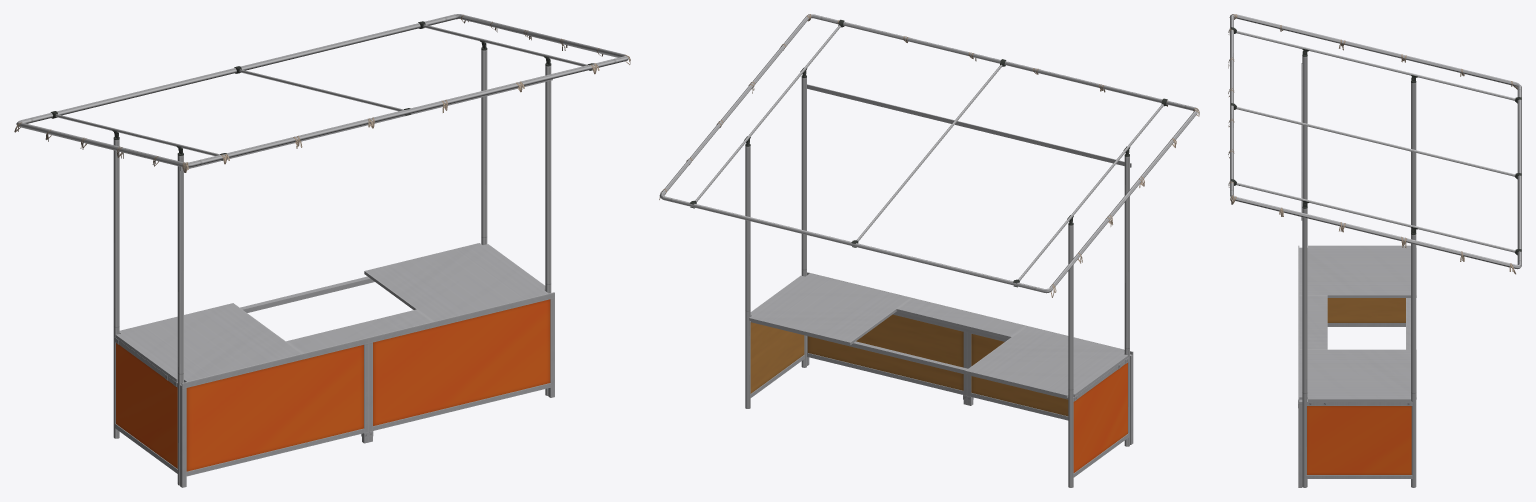
File: jsf_4P_s03_c01_t02.fbx
The picture shows the model from 3 angles, left to right: view 1: azimuth 30°, elevation 25°; view 2: azimuth 150°, elevation 25°; view 3: azimuth 270°, elevation 25°; orthographic projection. The views are drawn at different scales.
Parts seen in each view (by area): view 1: Base_s03_c01, Table_4P_s03_t02, Pillar4_s03, Rope_4P_s03; view 2: Base_s03_c01, Table_4P_s03_t02, Pillar4_s03; view 3: Table_4P_s03_t02, Pillar4_s03, Base_s03_c01, Rope_4P_s03.
Boxes of the visible parts, left/top/right/bottom form: Base_s03_c01: left=114, top=292, right=554, bottom=487; Table_4P_s03_t02: left=115, top=243, right=548, bottom=386; Pillar4_s03: left=16, top=14, right=628, bottom=485; Rope_4P_s03: left=14, top=14, right=630, bottom=172; Base_s03_c01: left=750, top=272, right=1133, bottom=477; Table_4P_s03_t02: left=749, top=273, right=1128, bottom=400; Pillar4_s03: left=659, top=14, right=1198, bottom=487; Table_4P_s03_t02: left=1299, top=245, right=1416, bottom=405; Pillar4_s03: left=1230, top=14, right=1521, bottom=487; Base_s03_c01: left=1298, top=245, right=1412, bottom=487; Rope_4P_s03: left=1228, top=14, right=1517, bottom=274.
Bounding box in the file's own units: 316 × 243 × 211.
